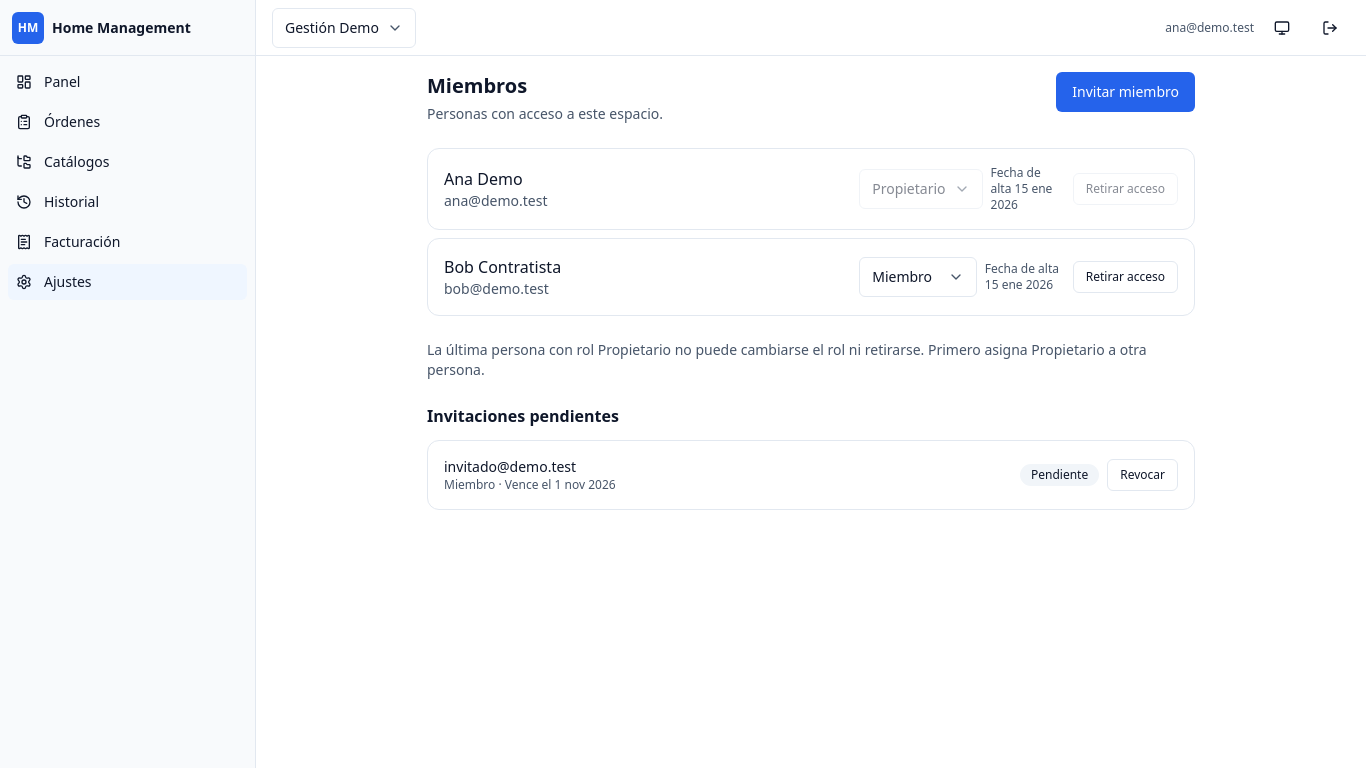
Test: members screen (spec F1 §3, AC-F1.6/AC-F1.9) › surfaces the RFC 7807 detail when the server rejects a role change (409)
The width and height of the screenshot is (1366, 768).
Expected: the text "Bob Contratista" is shown, [444,256,561,278]
What coordinates should you click on to do the following:
click the dropdown named "Rol de Bob Contratista"
I would click on:
 (918, 277)
Its box is [859,257,977,297].
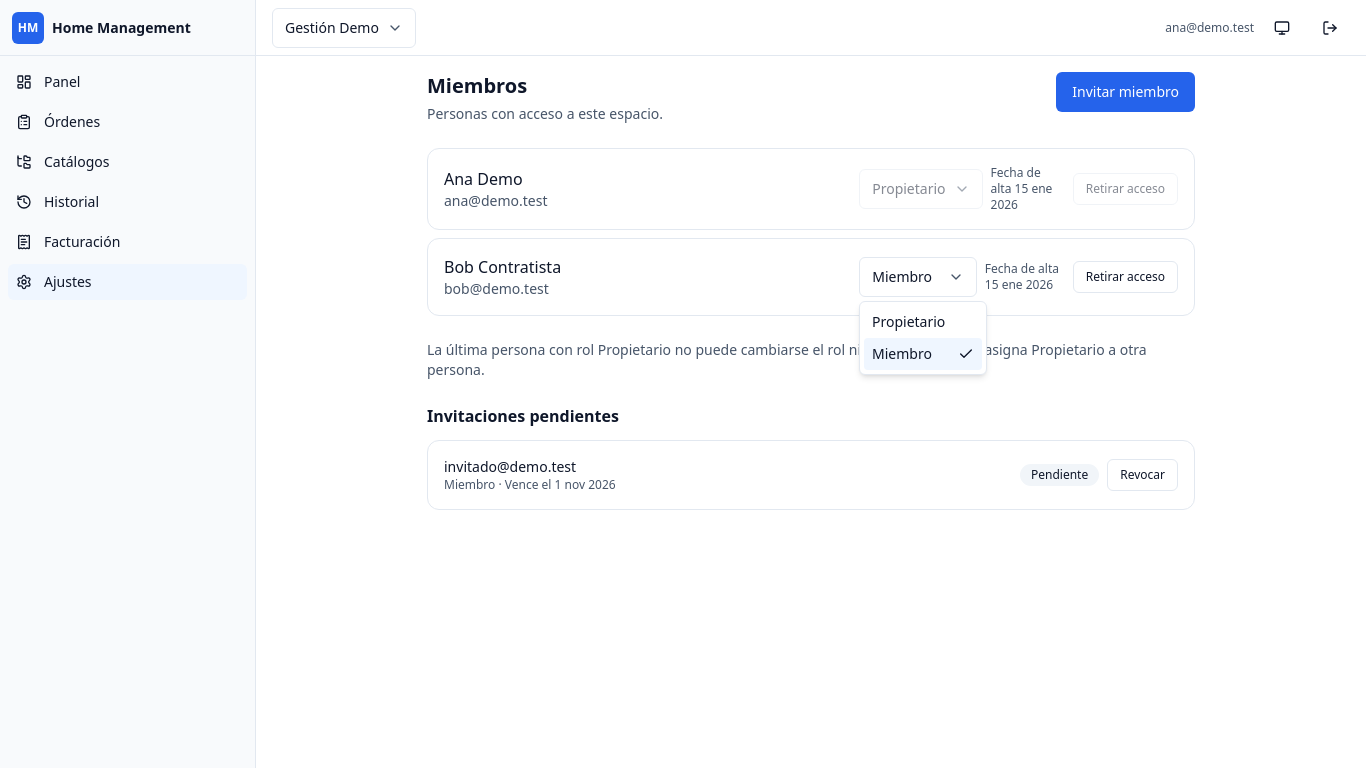
What coordinates should you click on to do the following:
click the option "Propietario"
I would click on:
 (909, 322)
Its box is [872,312,945,331].
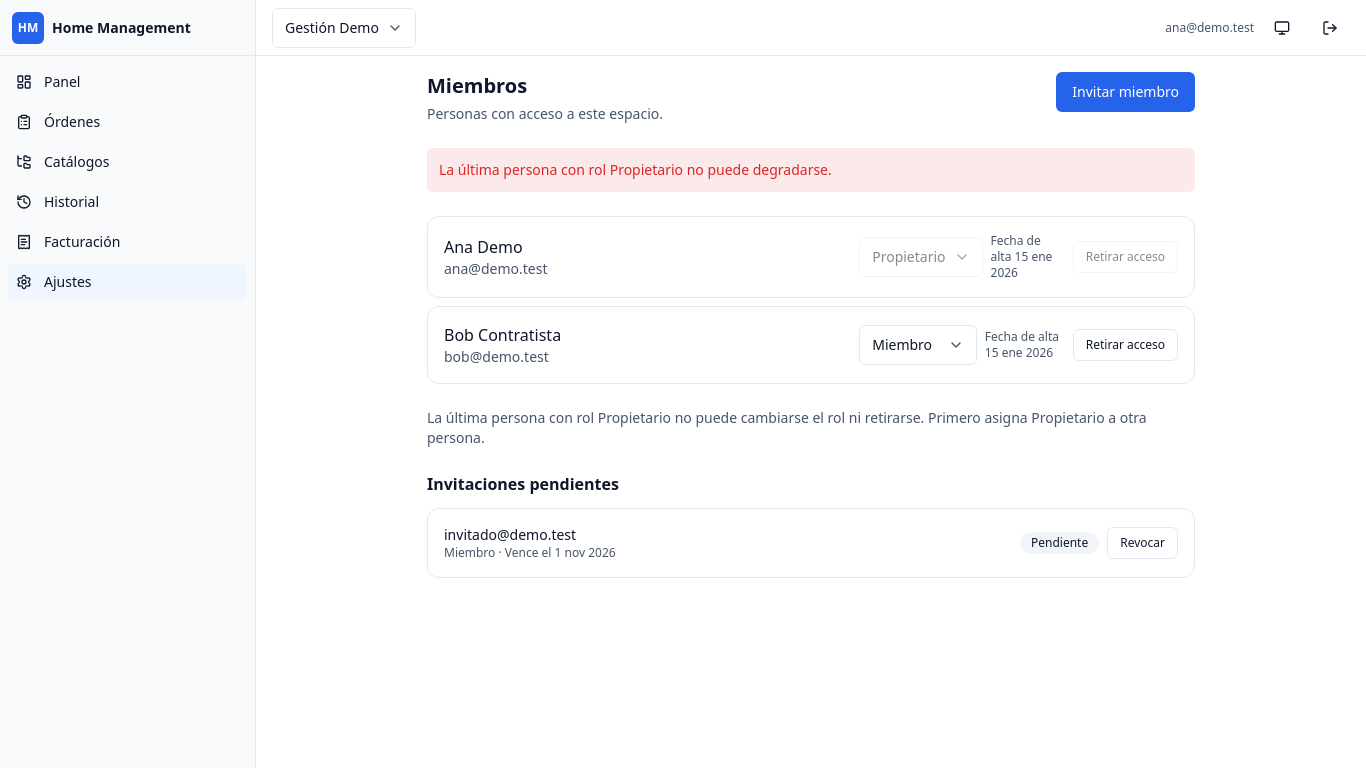
Expected: the text "La última persona con rol Propietario no puede degradarse." is shown, [427,148,1195,192]
